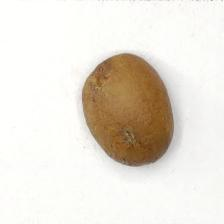NG: (87, 57, 117, 91), (118, 125, 140, 148)
